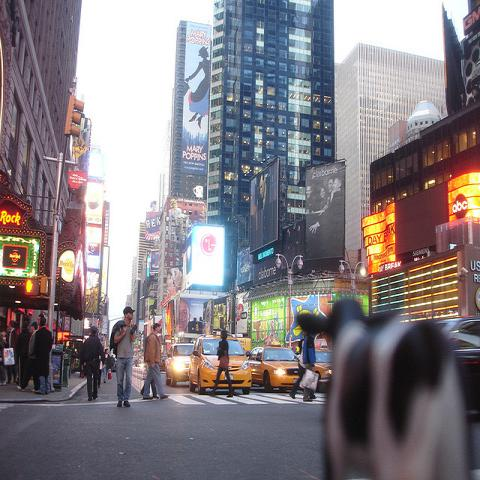car: (188, 331, 252, 394), (249, 346, 300, 394), (434, 315, 480, 367), (164, 342, 194, 386), (314, 348, 332, 386), (160, 354, 168, 372)
